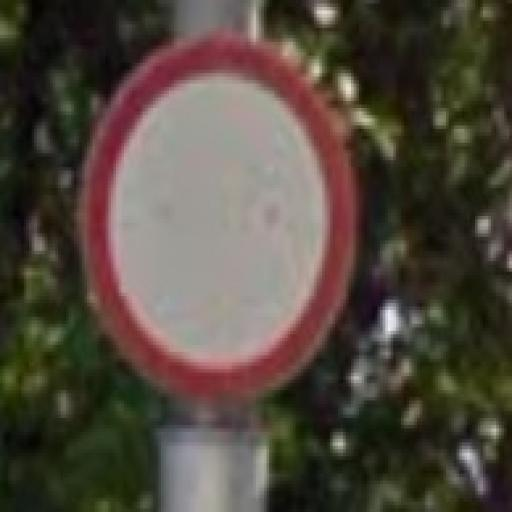traffic_sign: (78, 40, 363, 402)
